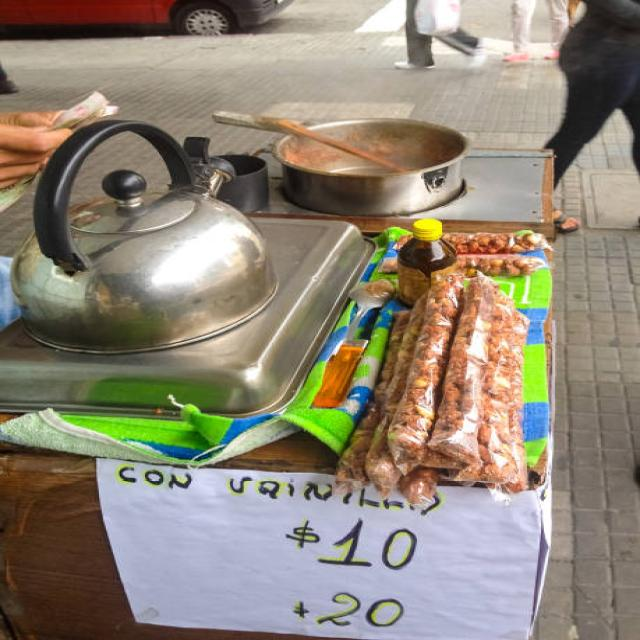Emperan: (0, 88, 611, 640)
